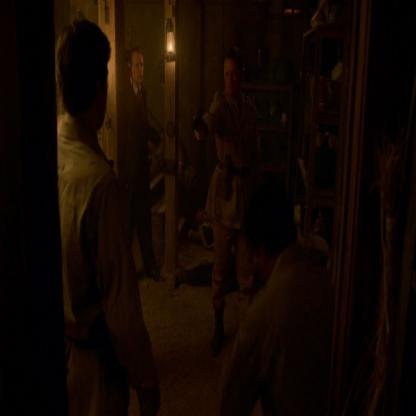Gun: (187, 110, 205, 141)
